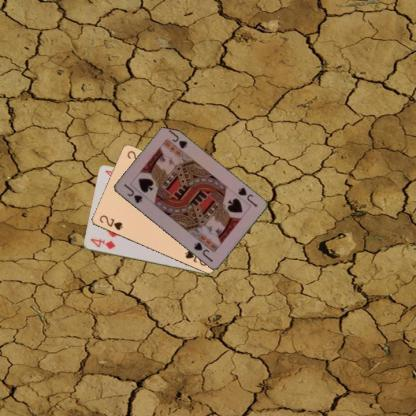2s: (96, 212, 124, 232)
4d: (88, 236, 116, 250)
Js: (121, 181, 143, 206), (235, 185, 258, 208)
